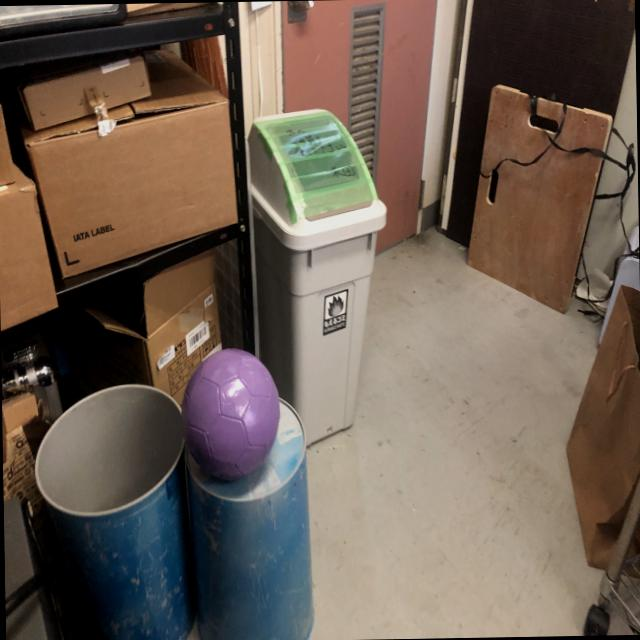purple_ball: (180, 348, 280, 482)
